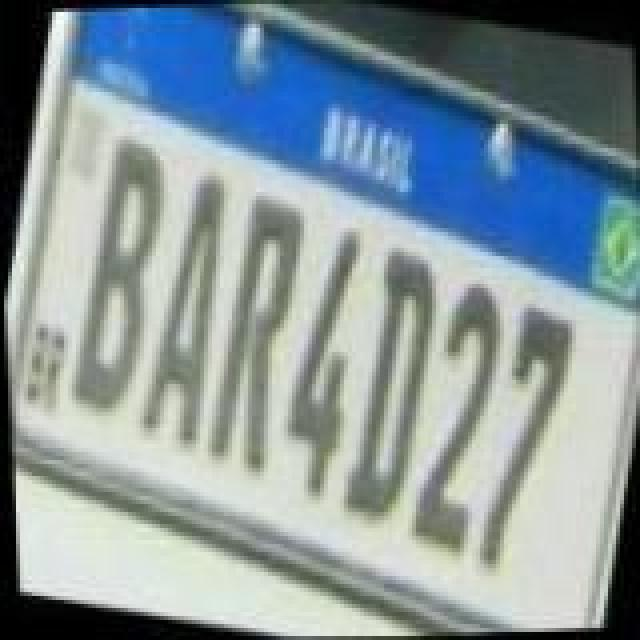2: (392, 272, 520, 556)
4: (256, 216, 380, 500)
7: (458, 294, 586, 574)
A: (126, 160, 250, 444)
B: (50, 124, 186, 420)
D: (324, 236, 456, 524)
R: (184, 178, 320, 478)
